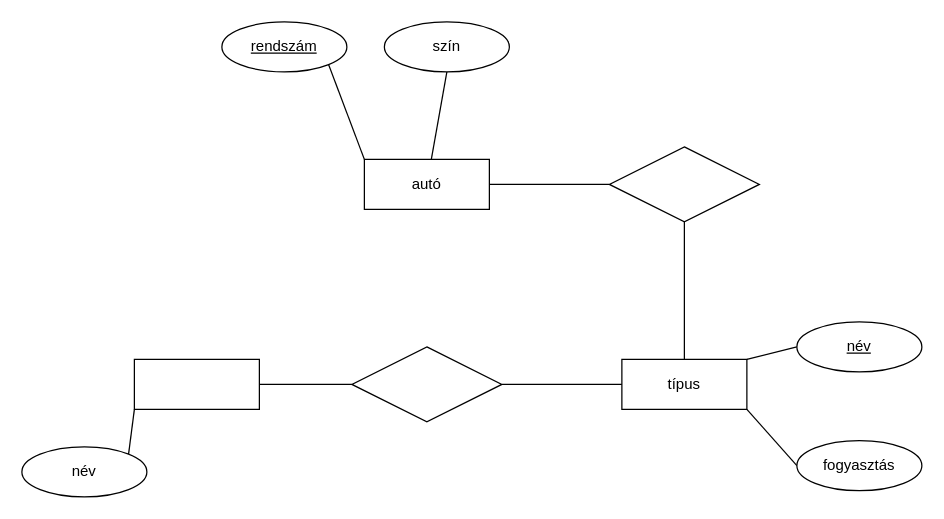
Image size: 944x519. Some labels were removed from this diagram. The box of each missing label's shape, as (x1, y1, x2, y2) in pixels:
márka: (133, 358, 259, 409)
márkája: (351, 346, 502, 422)
típusa: (608, 146, 759, 222)
